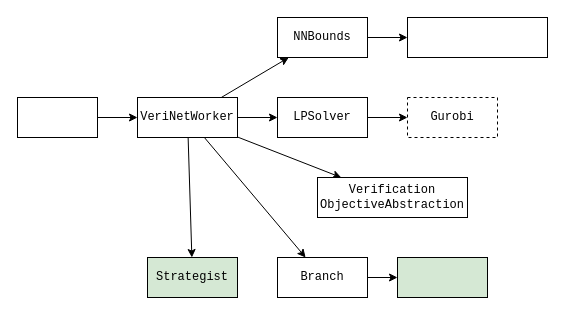
Some shapes in this 565 by 315 pixel diagram are drawn without their labels. Each missing label, with the centre of its shape:
Activation FunctionAbstraction: the point at 477,37
Splitmans: the point at 442,277
VeriNet: the point at 57,117
